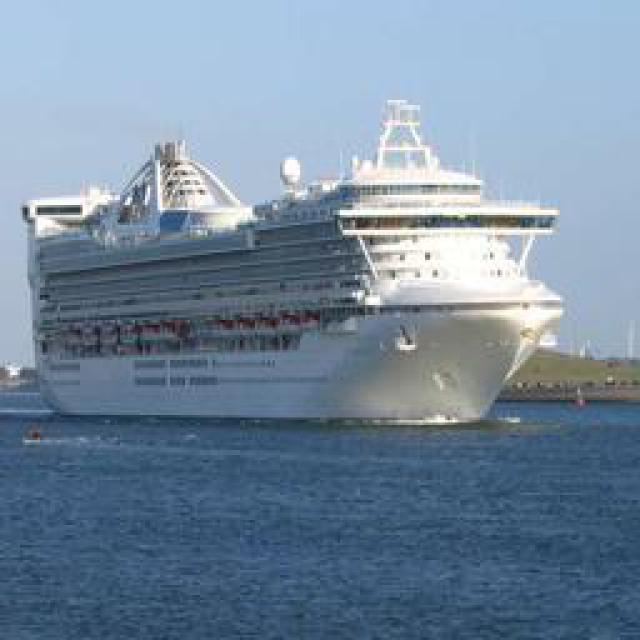Ship: (32, 98, 562, 416)
